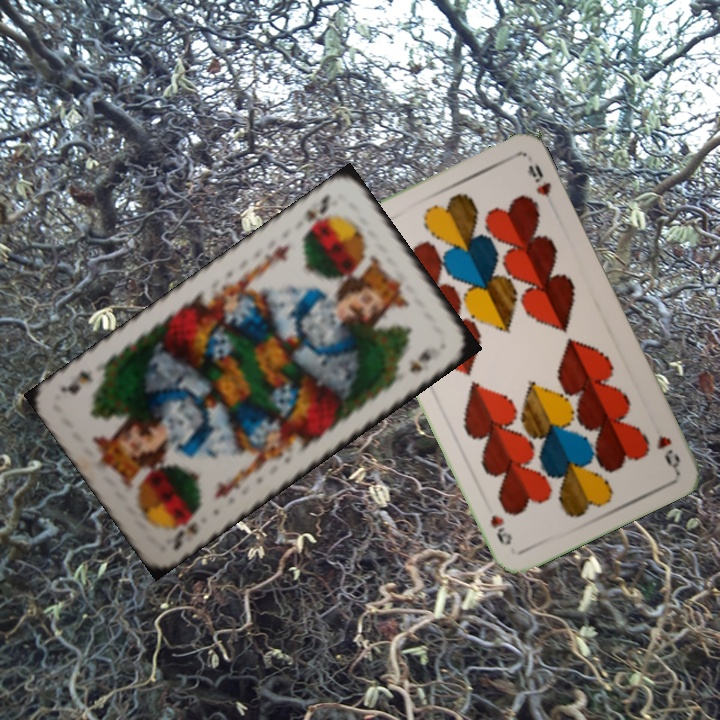H9: (653, 430, 683, 472)
SK: (298, 189, 334, 238), (168, 507, 202, 553)
